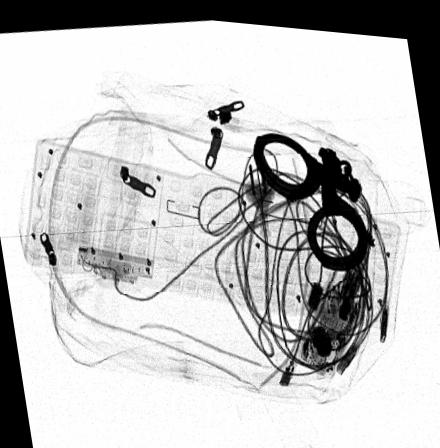HandCuffs: (252, 126, 375, 263)
